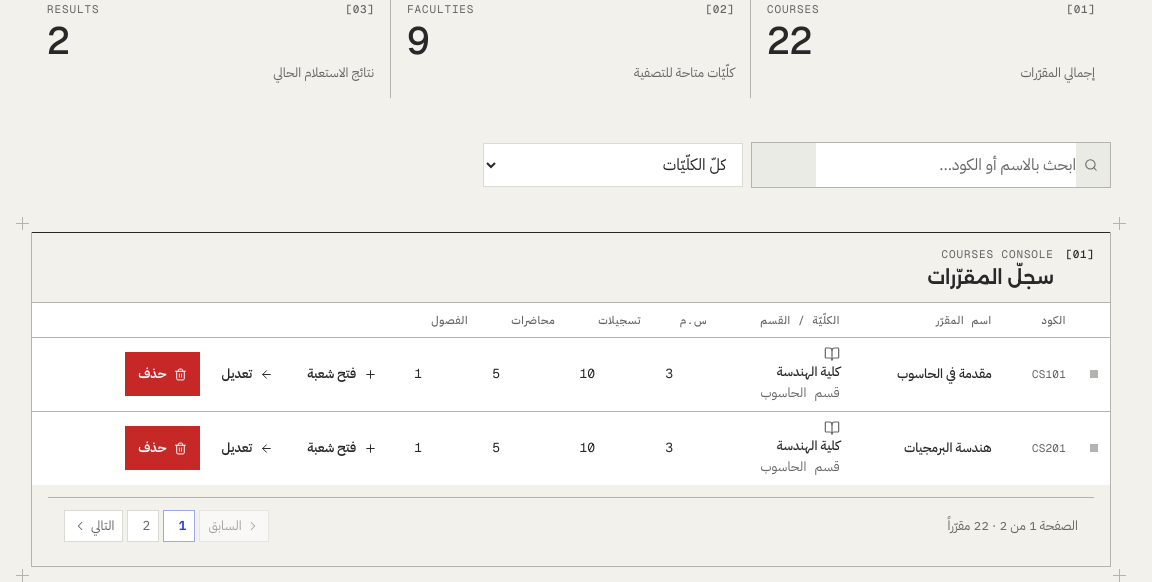
Scenario: AdminCoursesPage — server-side filters + meta pagination (P2-1) › renders the meta pagination footer and requests page 2
(page scrolled)
Expected: the text "الصفحة 1 من 2 · 22 مقرّراً" is shown, [948,515,1078,536]
Click the button with aria-label "الصفحة التالية" at (94, 526), box [64,510,123,542]
(page scrolled)
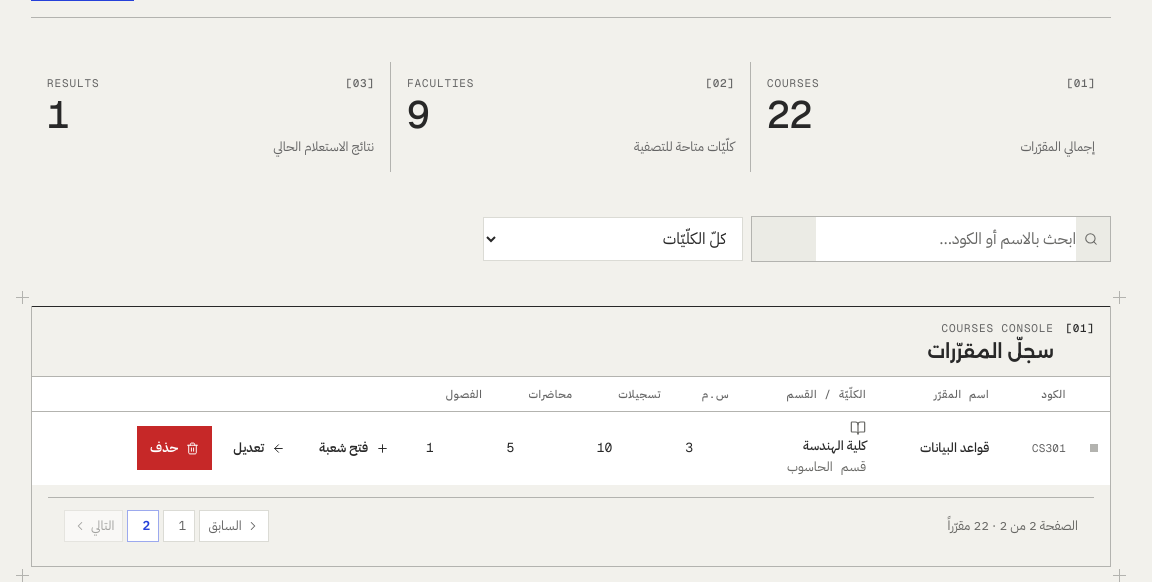
Now the text "قواعد البيانات" is shown, box [920,438,989,458]
